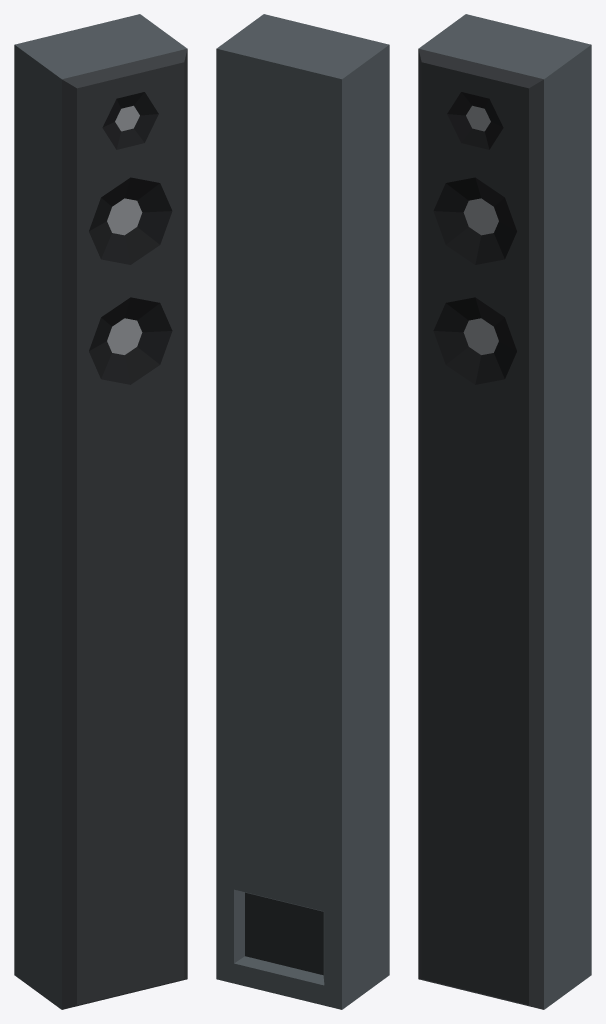
File: SpeakerTall.obj
The picture shows the model from 3 angles, left to right: view 1: azimuth 30°, elevation 25°; view 2: azimuth 150°, elevation 25°; view 3: azimuth 330°, elevation 25°; orthographic projection.
Bounding box in the file's own units: 0.1695 × 1.2 × 0.1247.
1 material, 1 textured.
